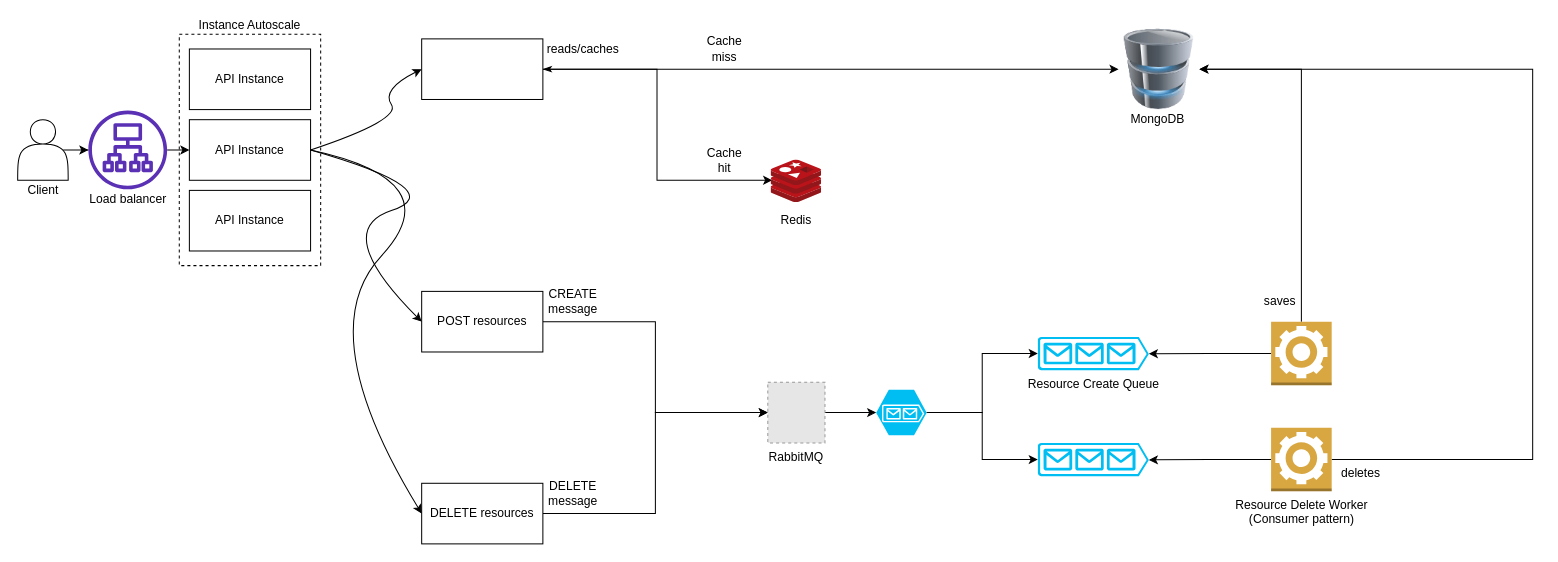
Some shapes in this 1558 by 562 pixel diagram are drawn without their labels. Grey dashed boxes stand in for pictures. The shapes that lost their labels are listed below. From the top down, each one's centre as x and y in pixels, then its label:
At pixel 482 68: "GET resources".
At pixel 1301 353: "Resource Create Worker (Consumer pattern)".
At pixel 901 412: "Resource exchange (Direct)".
At pixel 1092 459: "Resource Delete Queue".
